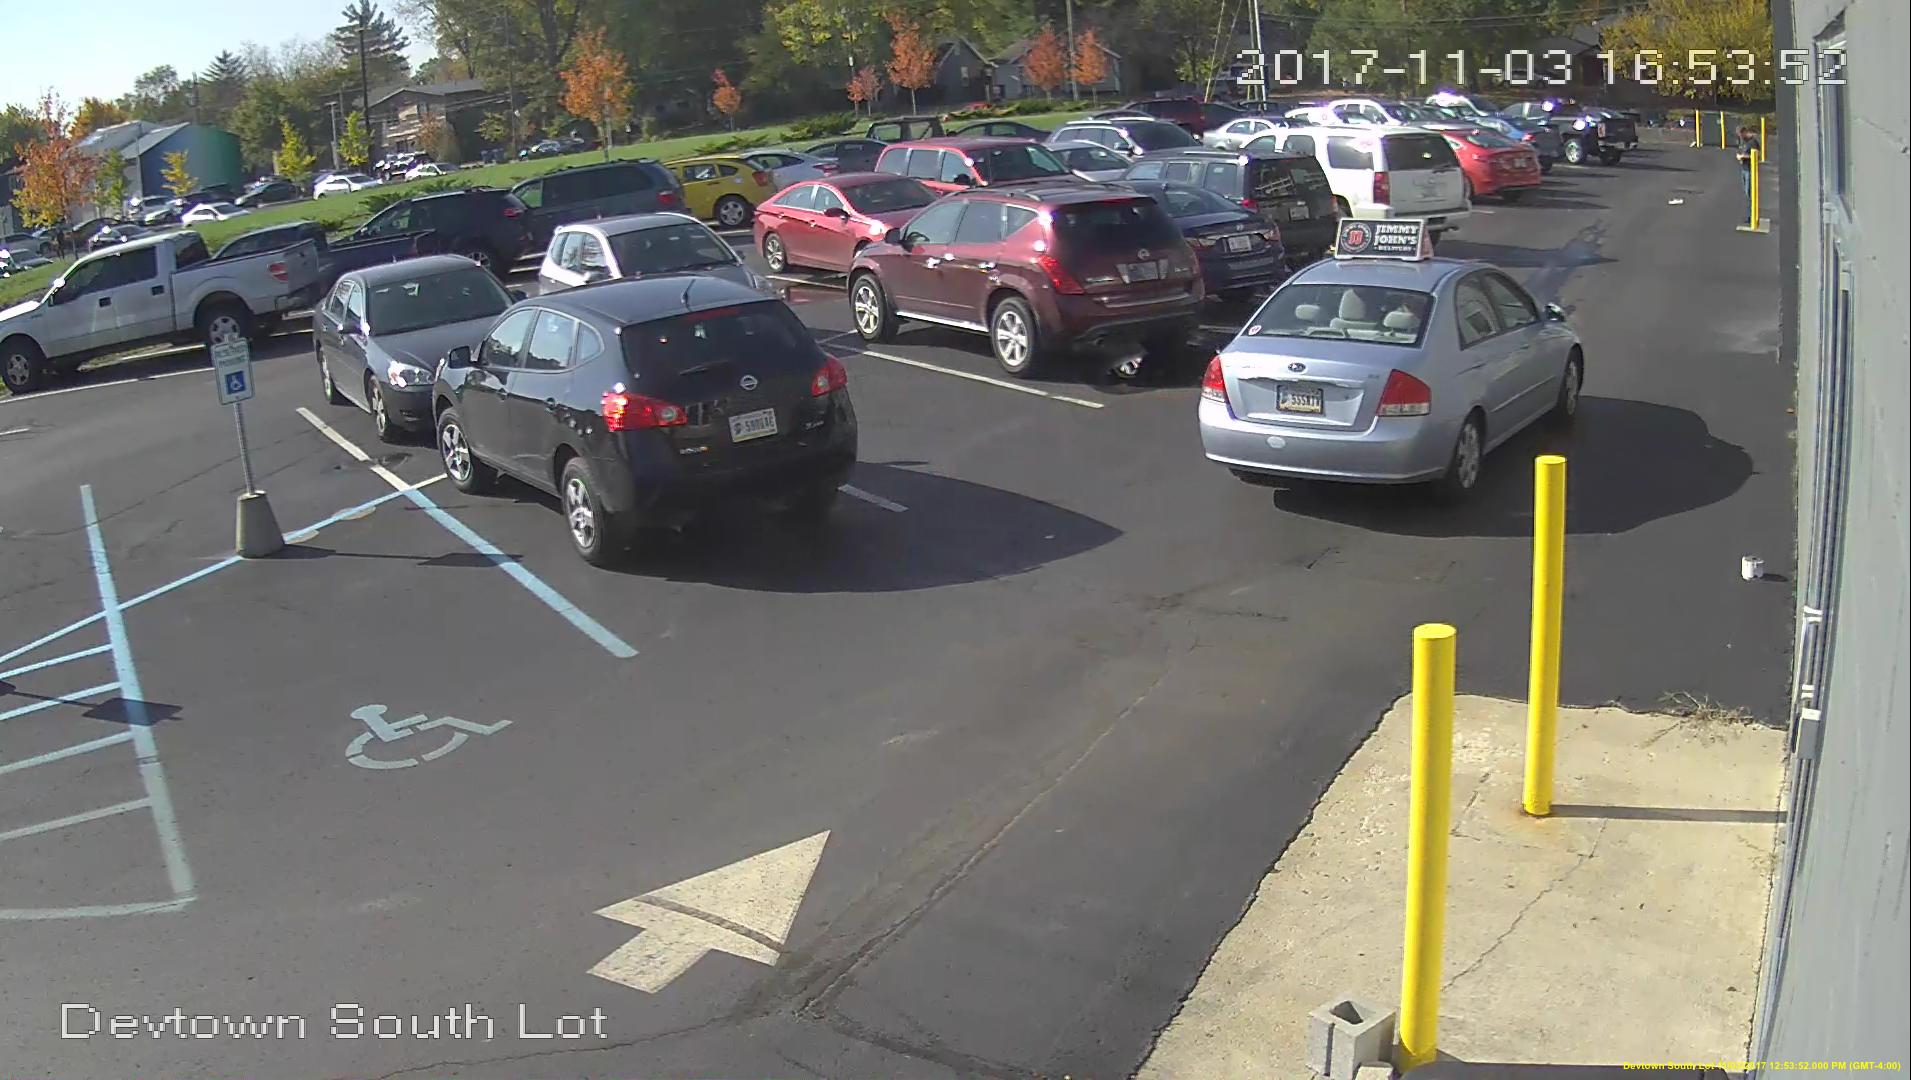jimmy_johns: (1330, 213, 1436, 265)
